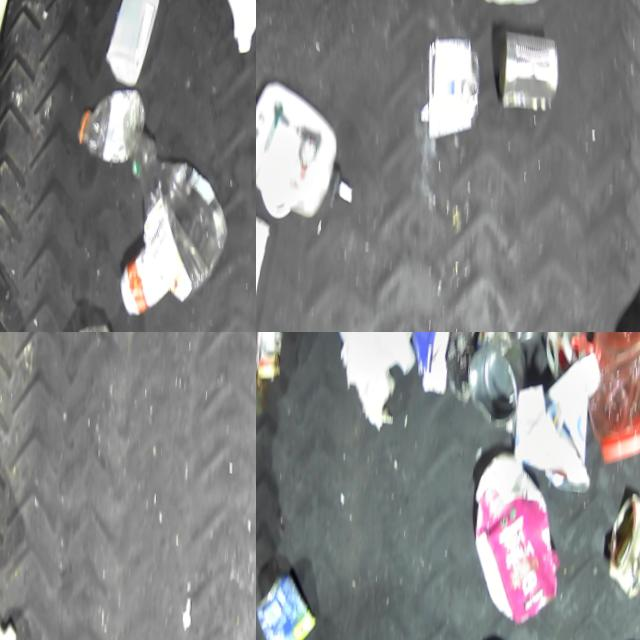can: (423, 35, 484, 142), (467, 332, 532, 428), (495, 27, 563, 114), (257, 570, 328, 640), (120, 244, 178, 317), (609, 489, 640, 600), (547, 332, 587, 382)
milk_jug: (219, 0, 256, 58)
non_white_jug: (473, 449, 574, 629)
plastic_bottle: (127, 131, 239, 305), (76, 85, 149, 167)
